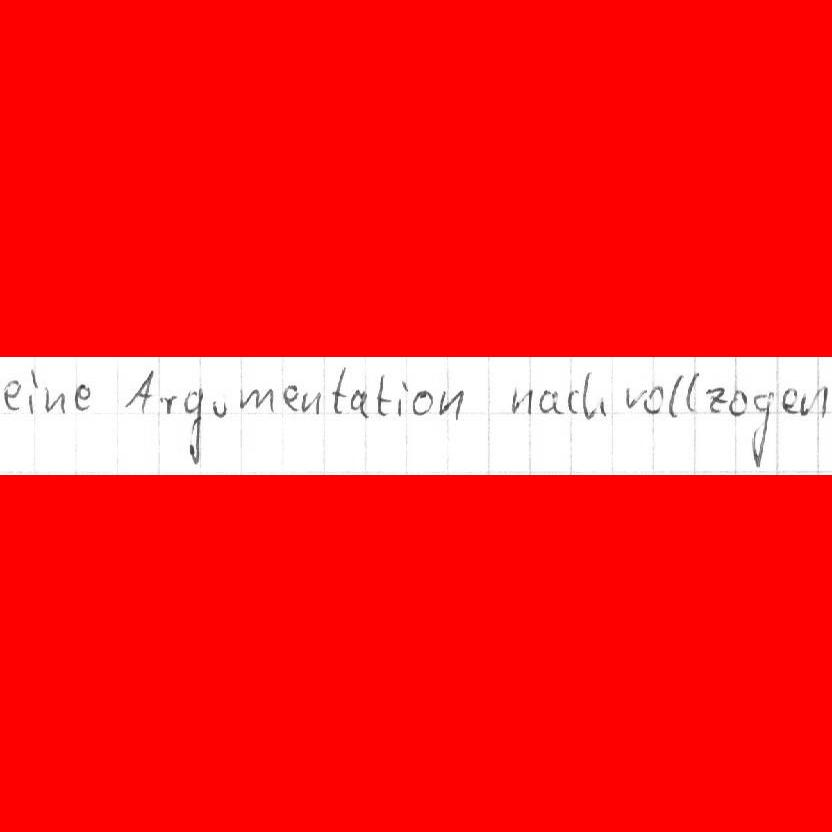Char: (750, 390, 773, 465), (124, 369, 154, 415), (184, 386, 202, 462), (239, 383, 277, 414), (582, 369, 606, 418), (436, 386, 463, 423), (798, 387, 830, 418), (330, 366, 348, 414), (667, 373, 685, 417), (510, 385, 533, 417), (685, 370, 701, 414), (2, 378, 22, 412), (374, 373, 389, 417), (72, 381, 92, 412), (349, 388, 369, 417), (705, 384, 725, 413), (301, 389, 323, 415), (26, 368, 39, 412), (411, 390, 432, 417), (644, 385, 662, 416), (43, 390, 66, 414), (624, 384, 644, 411), (539, 390, 561, 414), (282, 383, 300, 412), (728, 391, 747, 417), (781, 388, 799, 415), (396, 377, 408, 417), (211, 397, 229, 418), (566, 390, 581, 415), (161, 391, 177, 414)
